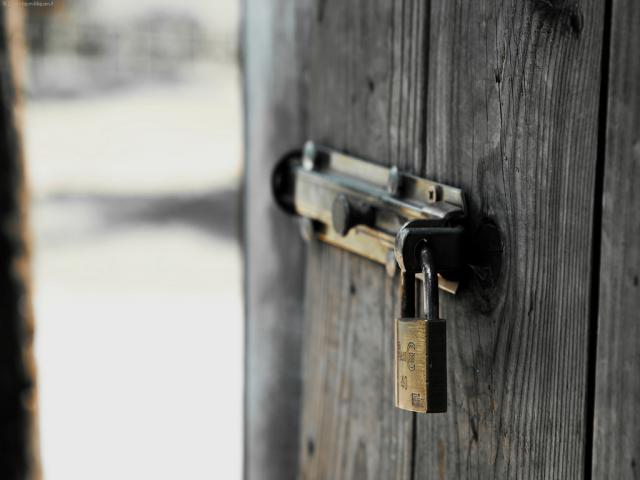Door-handle: (274, 140, 473, 304)
